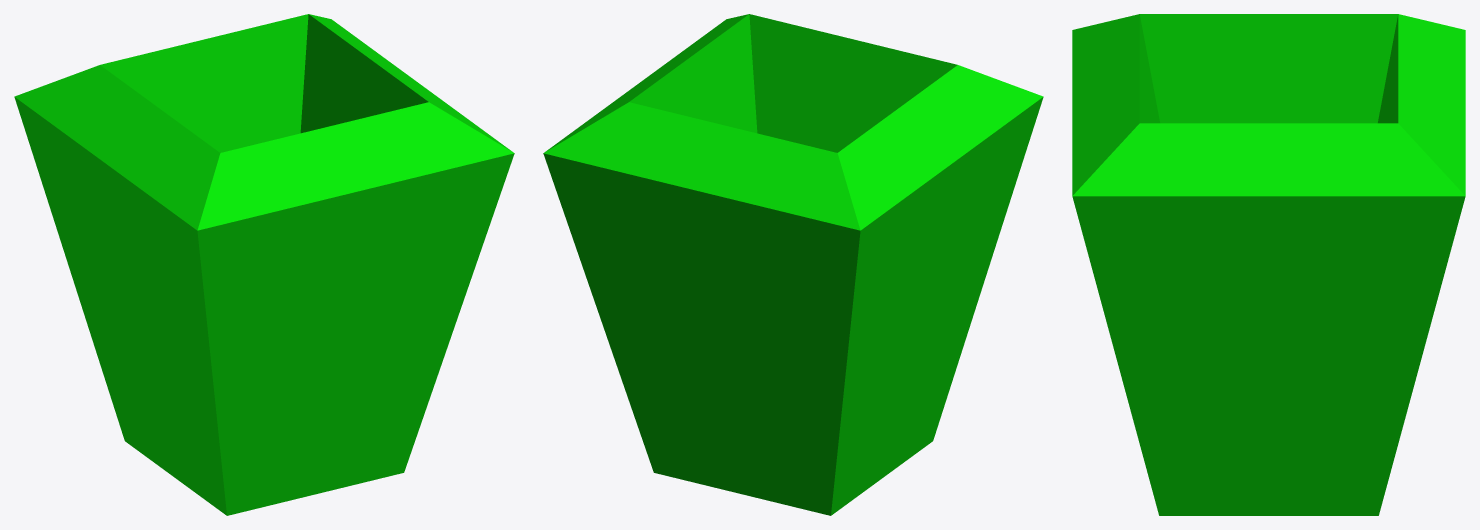
File: trash3.fbx
3 renders of one model, left to right at view 1: azimuth 30°, elevation 25°; view 2: azimuth 150°, elevation 25°; view 3: azimuth 270°, elevation 25°, orthographic. The views are drawn at different scales.
Parts seen in each view (by area): view 1: trash3; view 2: trash3; view 3: trash3.
Boxes of the visible parts, left/top/right/bottom form: trash3: left=14, top=14, right=514, bottom=515; trash3: left=543, top=14, right=1043, bottom=515; trash3: left=1072, top=14, right=1465, bottom=515.
Size of the model in its own units: 1 by 1.12 by 1.
